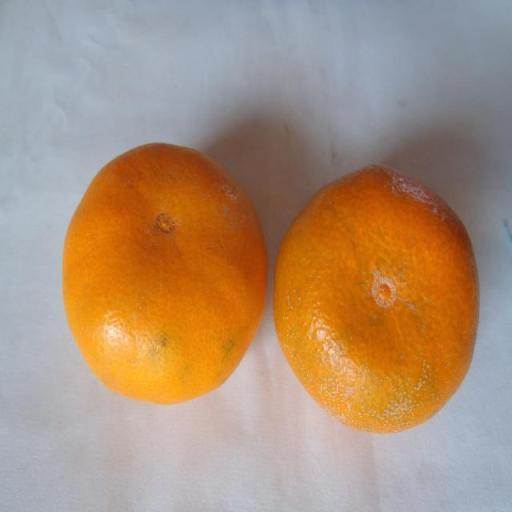fruit: (275, 166, 476, 431), (63, 144, 265, 402)
